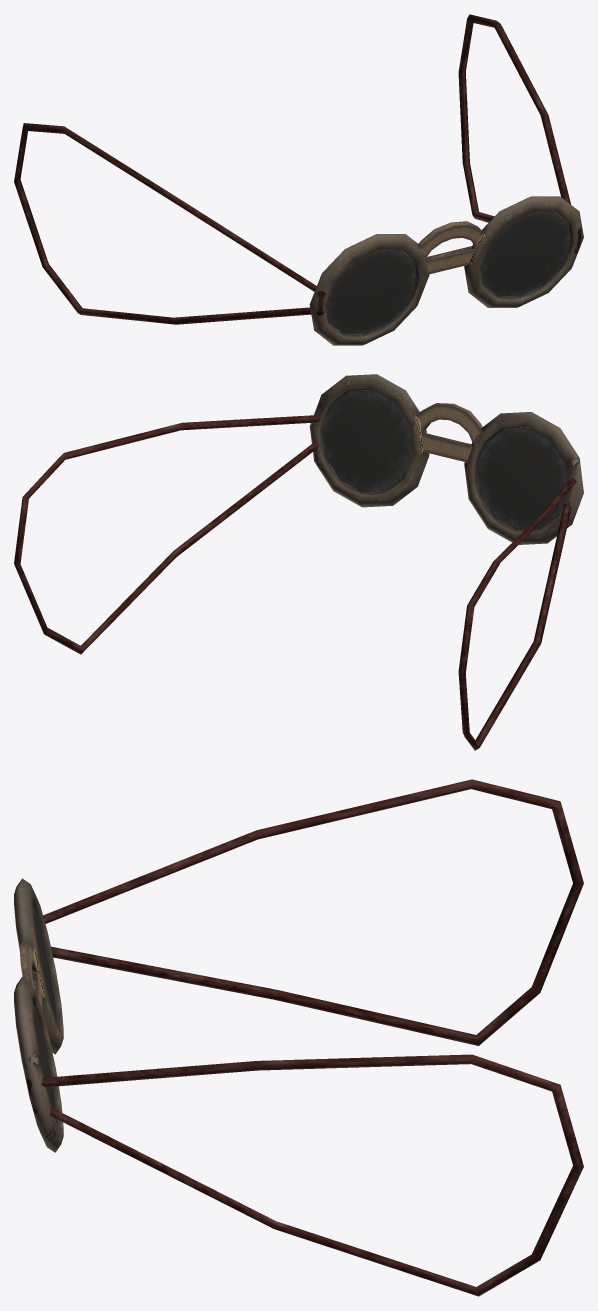
Rendered from acc_02.fbx.
3 renders of one model, top to bottom at view 1: azimuth 30°, elevation 25°; view 2: azimuth 150°, elevation 25°; view 3: azimuth 270°, elevation 25°, orthographic. The views are drawn at different scales.
Visible parts, largest first — view 1: musa_acc_02; view 2: musa_acc_02; view 3: musa_acc_02.
Boxes of the visible parts, x1=… form: musa_acc_02: x1=14, y1=14, x2=583, y2=345; musa_acc_02: x1=14, y1=374, x2=583, y2=750; musa_acc_02: x1=14, y1=779, x2=583, y2=1296.
Size of the model in its own units: 26 by 10.74 by 21.8.
Materials: 1 (1 with a texture image).
